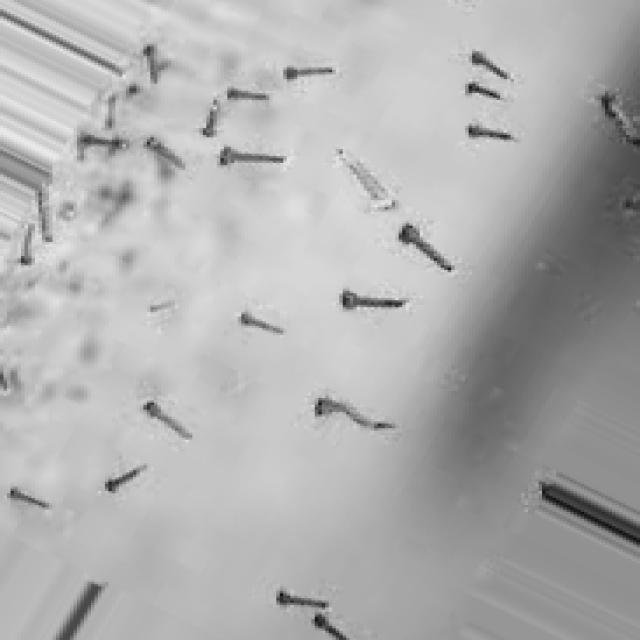larvas: (393, 224, 452, 272), (598, 93, 640, 147), (318, 399, 387, 428), (335, 290, 411, 312), (148, 400, 190, 439), (218, 148, 288, 167), (147, 141, 190, 171), (278, 586, 336, 608), (472, 48, 516, 76), (33, 193, 61, 236), (234, 313, 288, 335), (463, 121, 516, 143), (102, 460, 140, 490), (11, 486, 52, 513), (458, 82, 509, 100), (2, 364, 26, 402), (78, 132, 131, 148), (98, 92, 122, 126), (203, 100, 225, 136), (227, 85, 275, 101), (313, 614, 345, 637), (281, 68, 339, 80), (19, 229, 36, 264), (146, 44, 164, 77), (148, 299, 174, 315), (54, 199, 78, 216)
